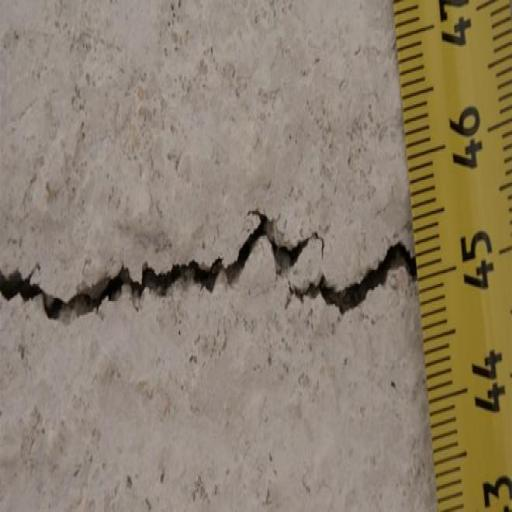spalling: (3, 201, 407, 335)
